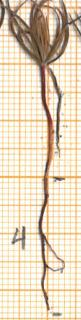flower: (3, 0, 72, 68)
root: (36, 175, 66, 313)
stem: (38, 69, 58, 178)
